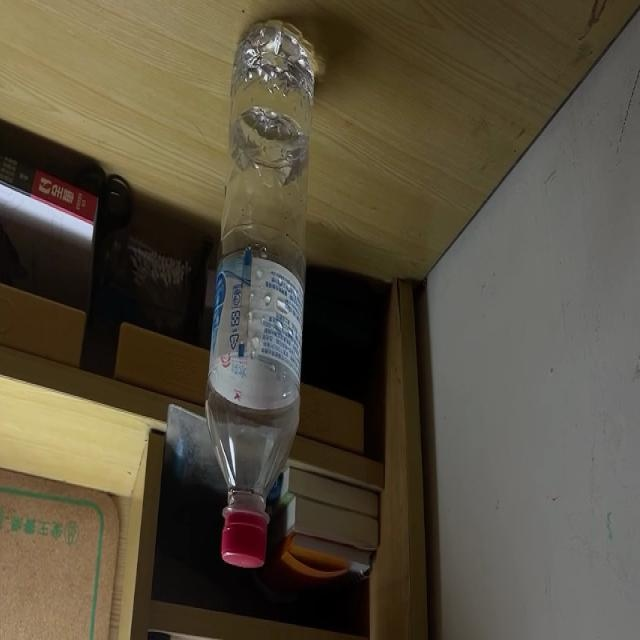Water: (206, 20, 314, 570)
